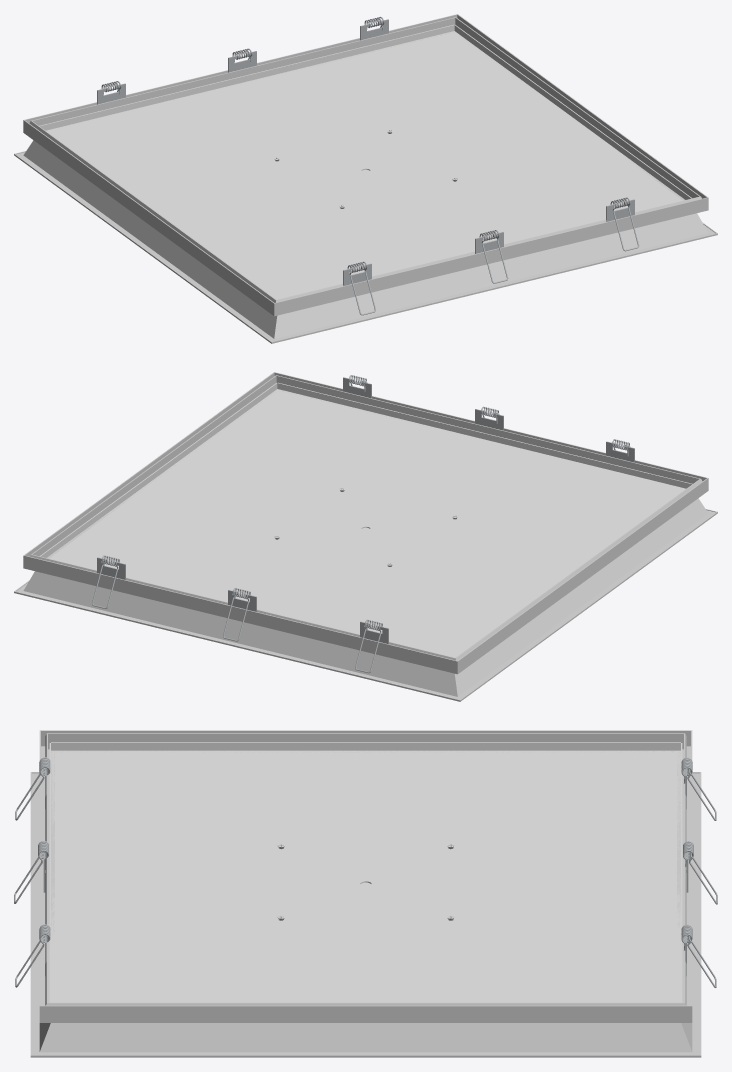
Rendered from PiazzaEmbutido-microborda.glb.
3 views of the same model, one above another, from view 1: azimuth 30°, elevation 25°; view 2: azimuth 150°, elevation 25°; view 3: azimuth 270°, elevation 25° (orthographic). The views are drawn at different scales.
Visible parts, largest first — view 1: 3DGeom-6, 3DGeom-7 (×4); view 2: 3DGeom-6, 3DGeom-7 (×4); view 3: 3DGeom-6, 3DGeom-7 (×4).
Boxes of the visible parts, left/top/right/bottom form: 3DGeom-6: left=39, top=24, right=691, bottom=299; 3DGeom-7 (×4): left=14, top=14, right=717, bottom=343; 3DGeom-6: left=40, top=382, right=692, bottom=657; 3DGeom-7 (×4): left=14, top=372, right=717, bottom=701; 3DGeom-6: left=49, top=742, right=682, bottom=1002; 3DGeom-7 (×4): left=30, top=730, right=701, bottom=1057.
Size of the model in its own units: 0.475 by 0.0607 by 0.4986.
2 materials, 1 textured.
